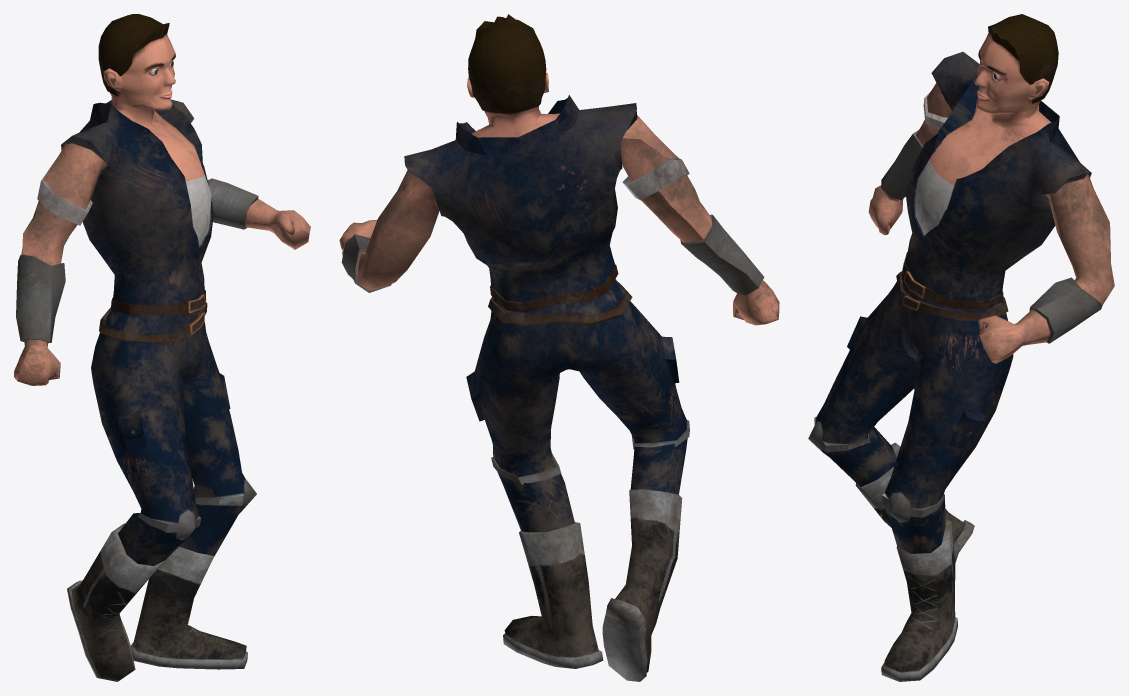
File: Anim_ataque_f2_jugador.0014.obj
3 views of the same model, side by side, from view 1: azimuth 30°, elevation 25°; view 2: azimuth 150°, elevation 25°; view 3: azimuth 270°, elevation 25° (orthographic). The views are drawn at different scales.
Parts seen in each view (by area): view 1: polySurface1; view 2: polySurface1; view 3: polySurface1.
Boxes of the visible parts, x1,y1,x2,y2 form: polySurface1: [14, 14, 310, 681]; polySurface1: [339, 14, 779, 681]; polySurface1: [808, 14, 1114, 681].
Bounding box in the file's own units: 5.51 × 9.35 × 4.08.
